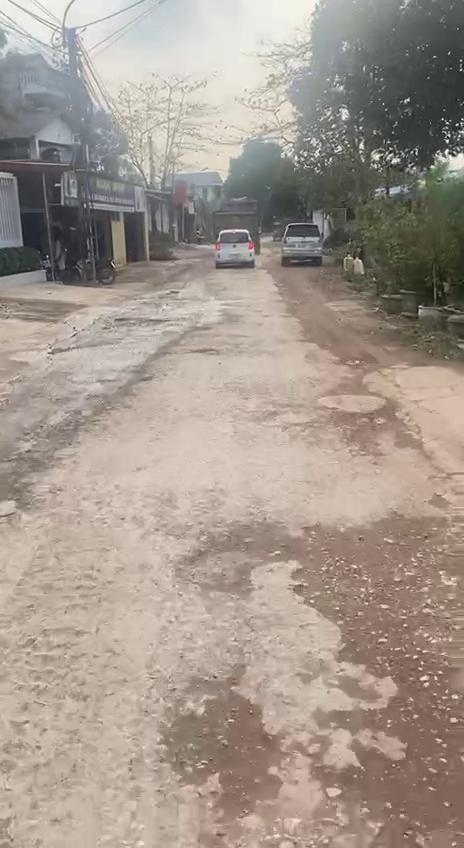pothole: (288, 524, 464, 691), (315, 685, 464, 848), (155, 678, 284, 828), (178, 528, 276, 602)
